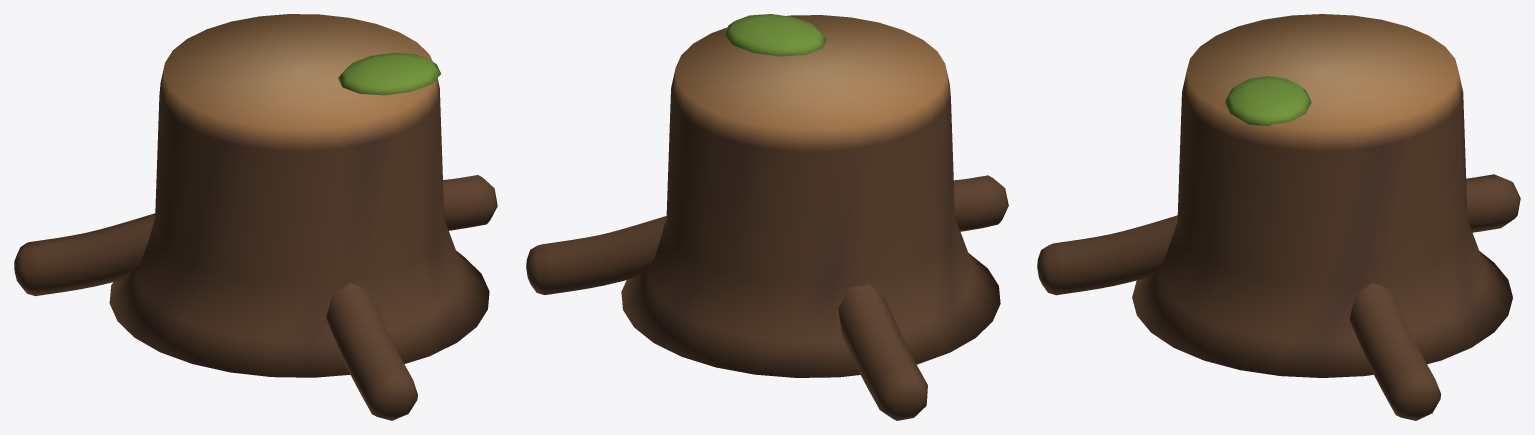
Rendered from baumstumpf.glb.
3 renders of one model, left to right at view 1: azimuth 30°, elevation 25°; view 2: azimuth 150°, elevation 25°; view 3: azimuth 270°, elevation 25°, orthographic.
Parts seen in each view (by area): view 1: baumstumpf-matt; view 2: baumstumpf-matt; view 3: baumstumpf-matt.
Boxes of the visible parts, left/top/right/bottom form: baumstumpf-matt: left=14, top=14, right=497, bottom=420; baumstumpf-matt: left=526, top=14, right=1008, bottom=420; baumstumpf-matt: left=1037, top=14, right=1520, bottom=420.
Bounding box in the file's own units: 1.11 × 0.6183 × 1.07.
